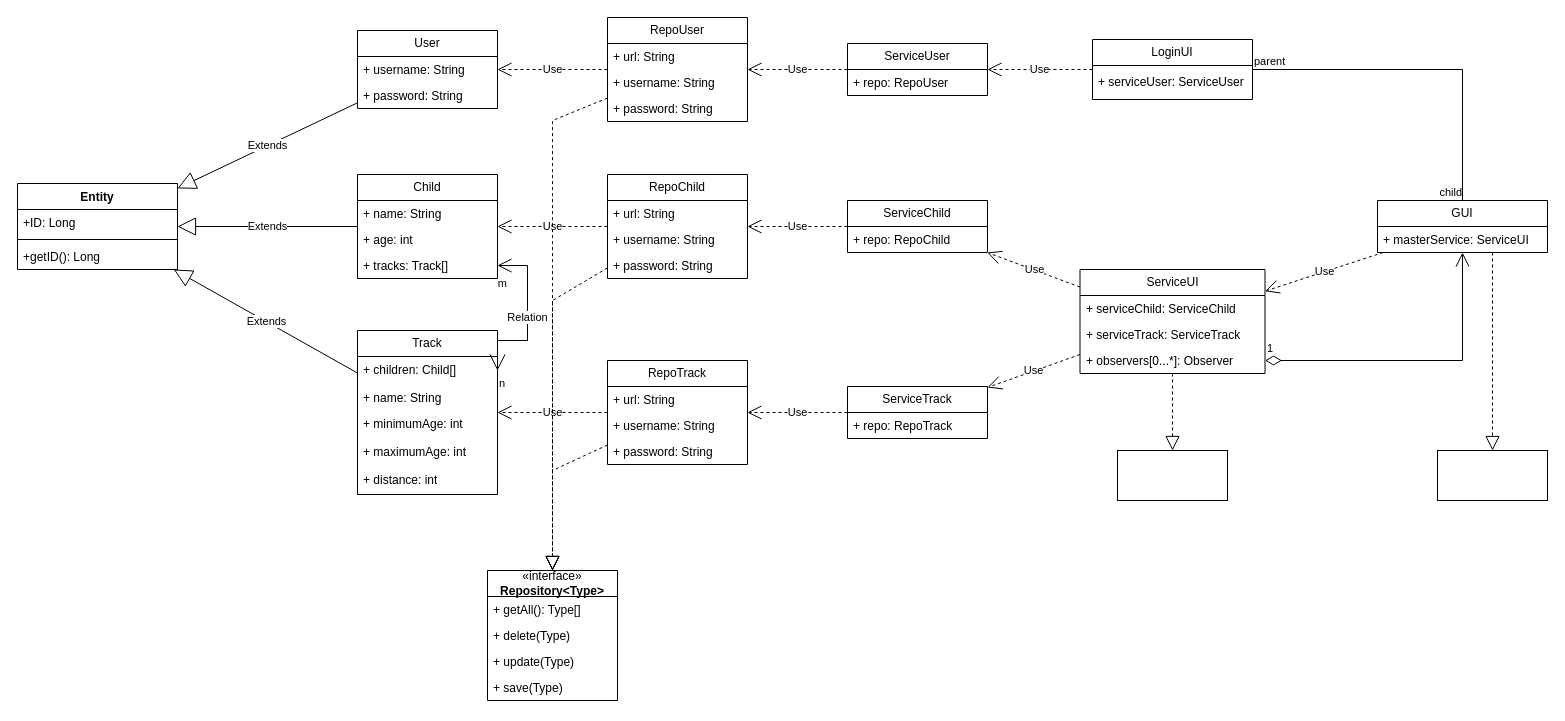
Image size: 1565x721. Some labels were removed from this diagram. The shapes that lost their labels are listed below. From the top down, each one's centre as x and y in pixels, then its label:
the point at 1172,475: «interface» Observable
the point at 1492,475: «interface» Observer
